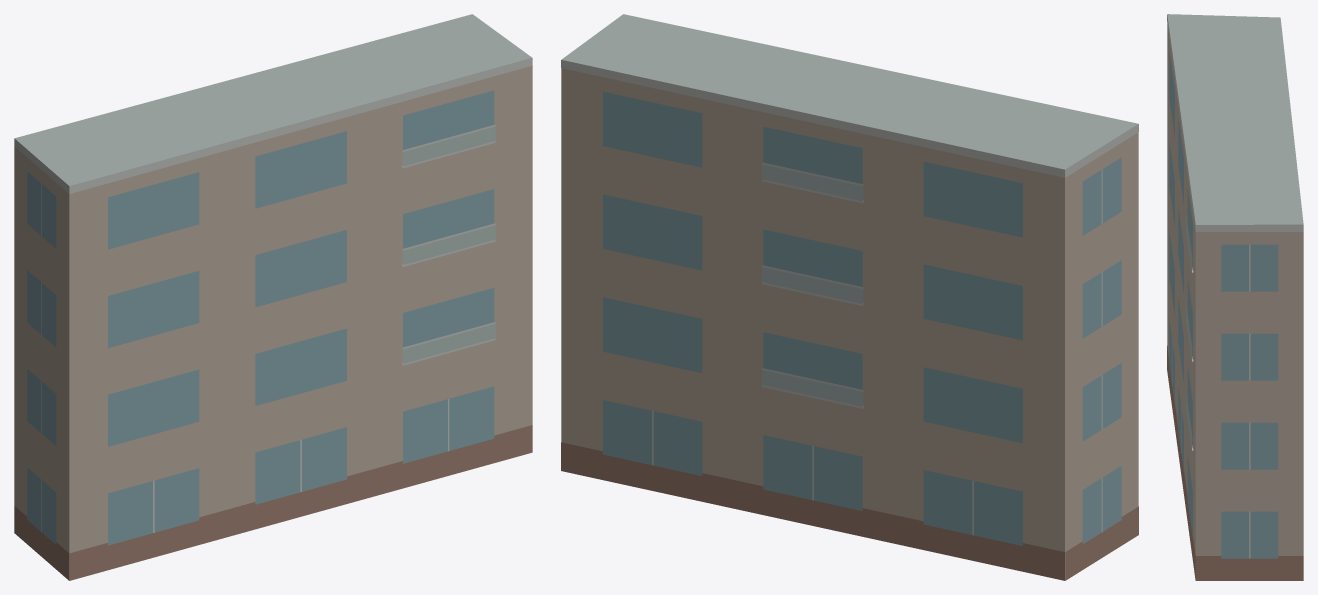
Rendered from survey-upis-32905443.glb.
3 views of the same model, side by side, from view 1: azimuth 30°, elevation 25°; view 2: azimuth 150°, elevation 25°; view 3: azimuth 270°, elevation 25° (orthographic). The views are drawn at different scales.
Visible parts, largest first — view 1: survey-upis-32905443.tmp; view 2: survey-upis-32905443.tmp; view 3: survey-upis-32905443.tmp.
Boxes of the visible parts, left/top/right/bottom form: survey-upis-32905443.tmp: left=14, top=14, right=532, bottom=580; survey-upis-32905443.tmp: left=561, top=14, right=1138, bottom=580; survey-upis-32905443.tmp: left=1167, top=14, right=1303, bottom=580.
Bounding box in the file's own units: 15.5 × 12.2 × 4.25.
